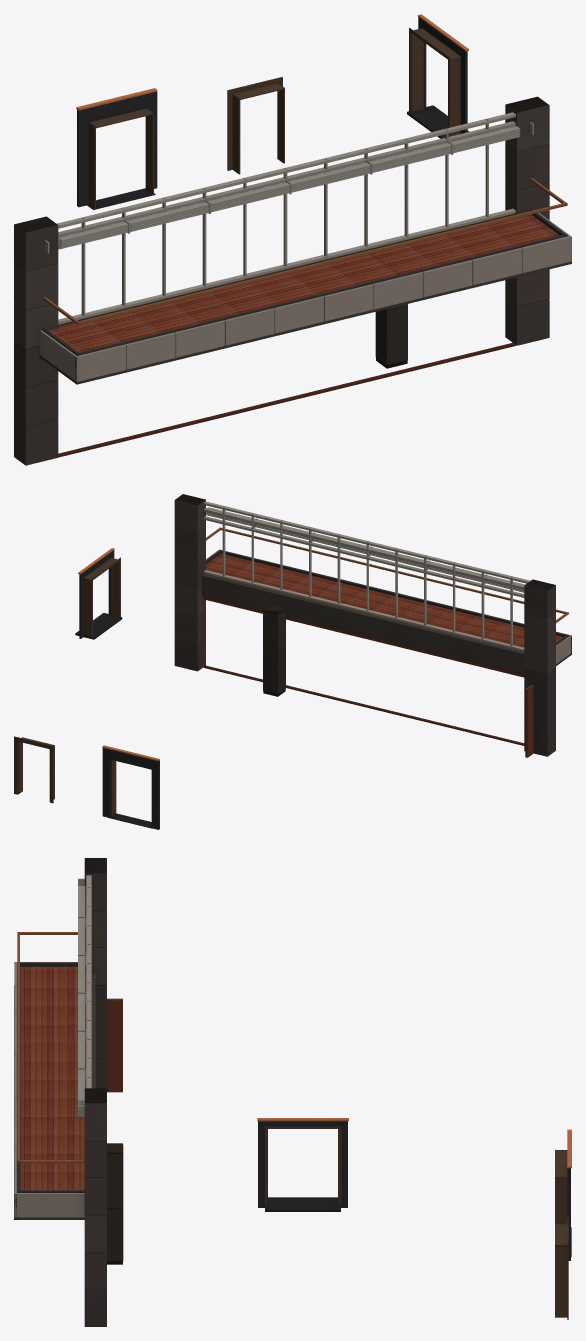
File: suite_facade.glb
The picture shows the model from 3 angles, top to bottom: view 1: azimuth 30°, elevation 25°; view 2: azimuth 150°, elevation 25°; view 3: azimuth 270°, elevation 25°; orthographic projection. The views are drawn at different scales.
Parts seen in each view (by area): view 1: suite_facade; view 2: suite_facade; view 3: suite_facade.
Part boxes in pixels (x1=…): suite_facade: x1=14, y1=14, x2=571, y2=465; suite_facade: x1=14, y1=494, x2=571, y2=829; suite_facade: x1=14, y1=858, x2=571, y2=1326.
Bounding box in the file's own units: 16.53 × 6.82 × 15.38.
1 material, 1 textured.
